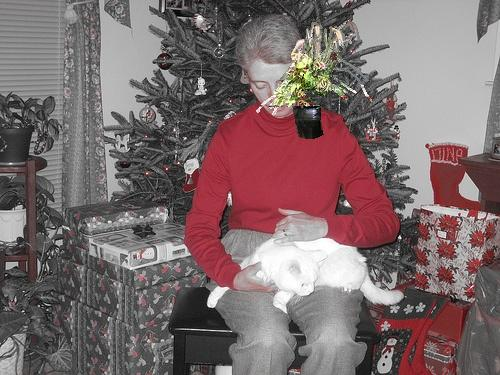tampered: (257, 21, 372, 139)
